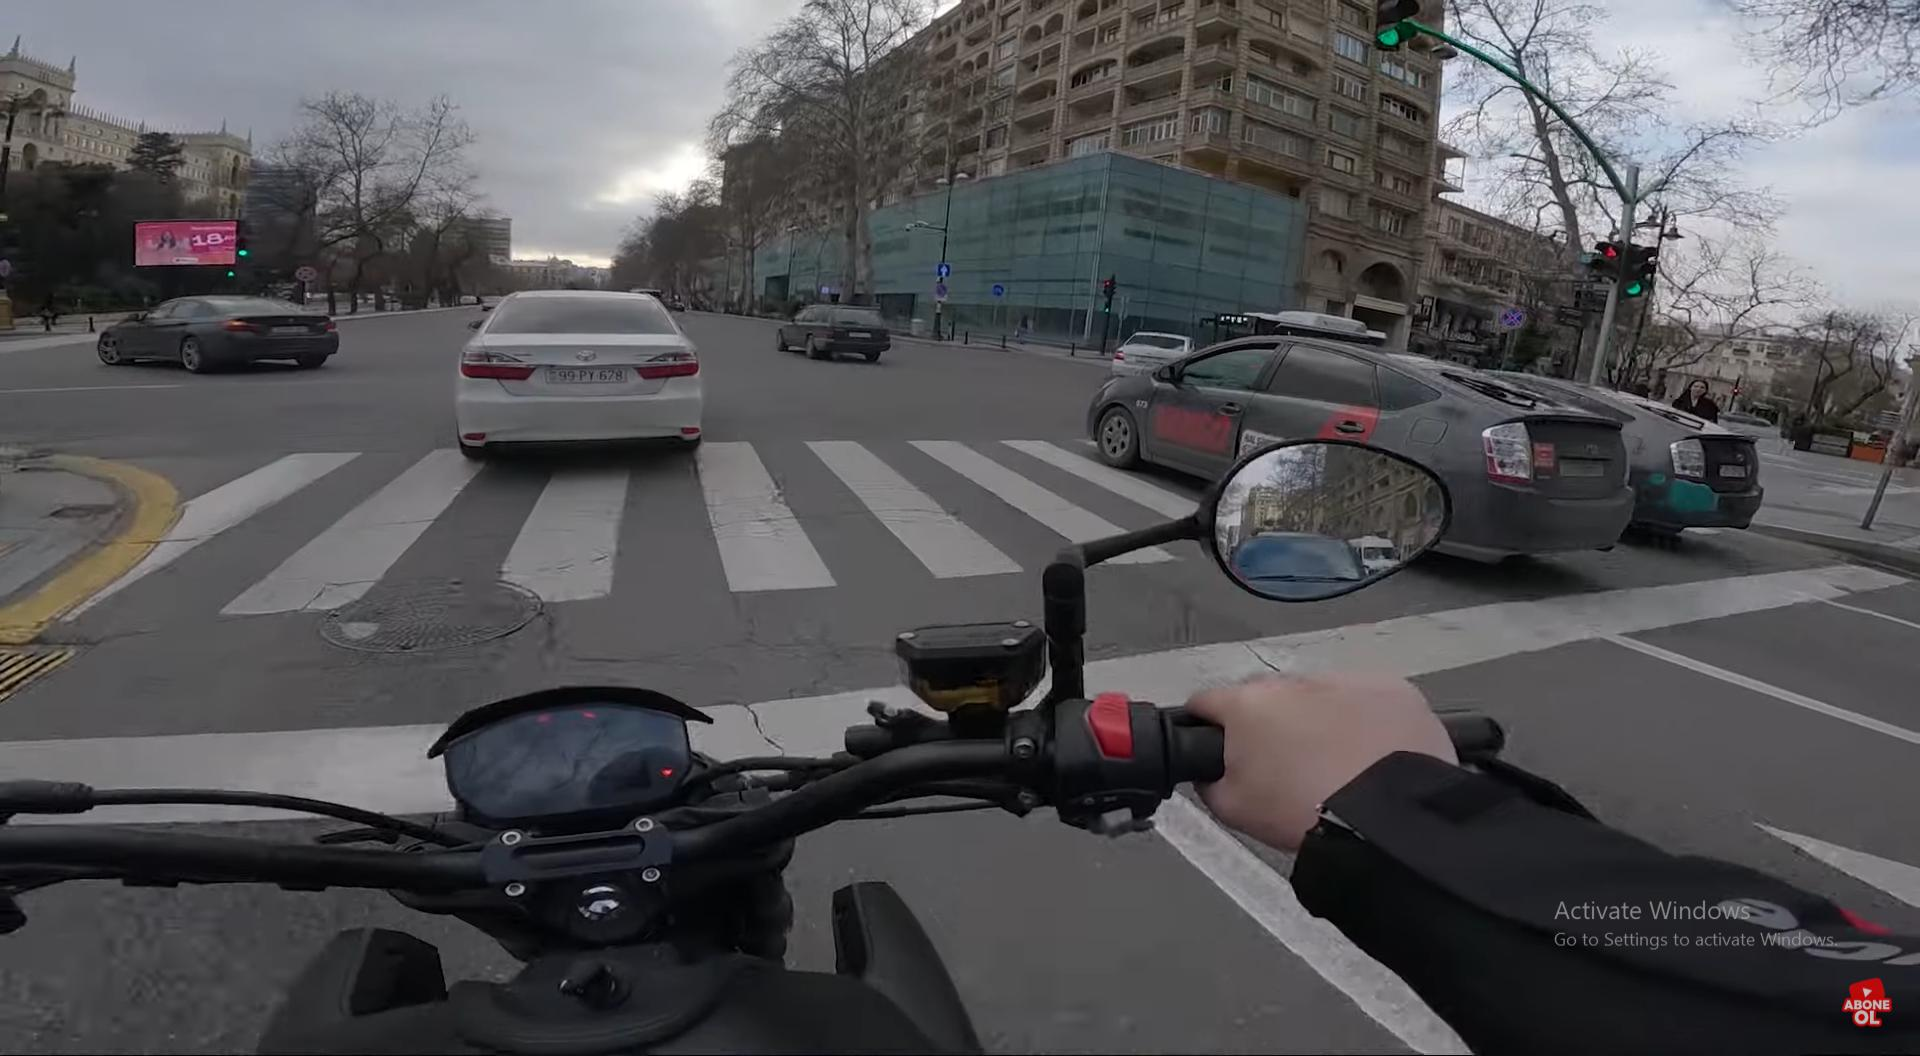banner: (121, 217, 249, 274)
